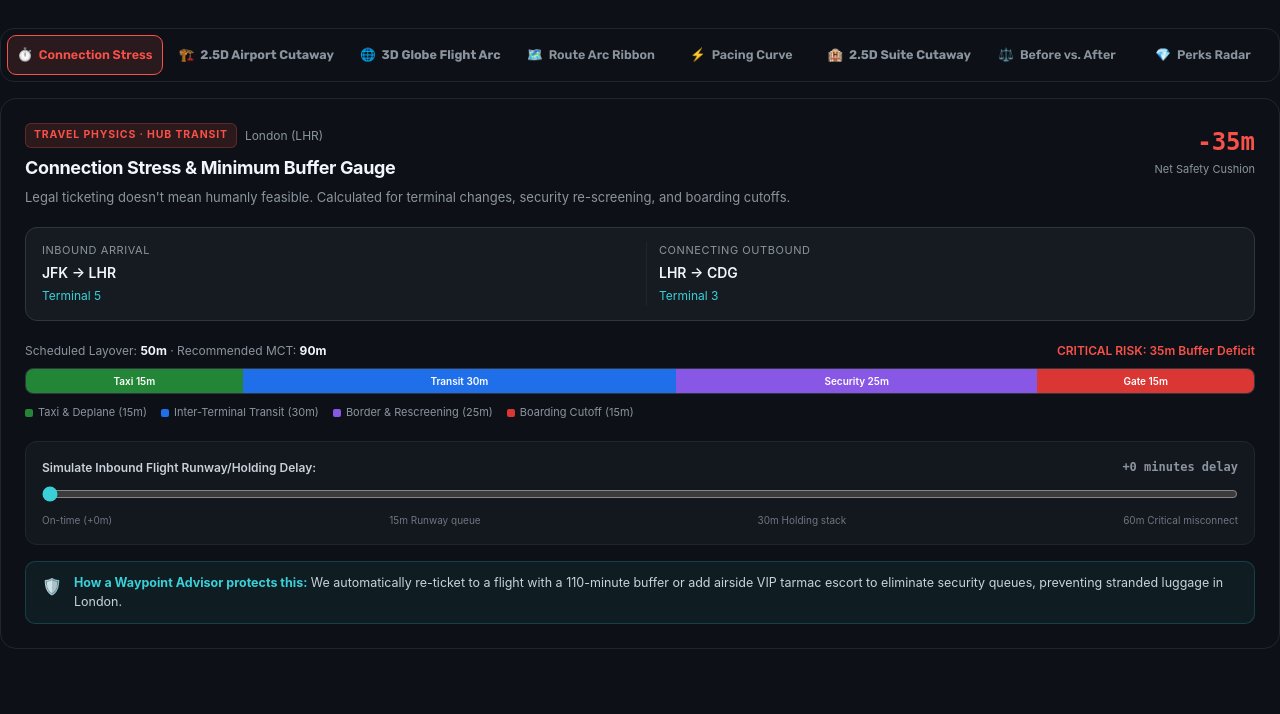
Test: Spatial & Visual Aha Moments Suite › renders WedgeVisualShowcase with seamless tab navigation across 2.5D, 3D, and planar views
Expected: the heading "Connection Stress & Minimum Buffer Gauge" is shown, [25, 157, 395, 178]
// 5D Airport Cutaway tab
Click the button "🏗️ 2.5D Airport Cutaway".
click(256, 55)  # box [169, 35, 344, 75]
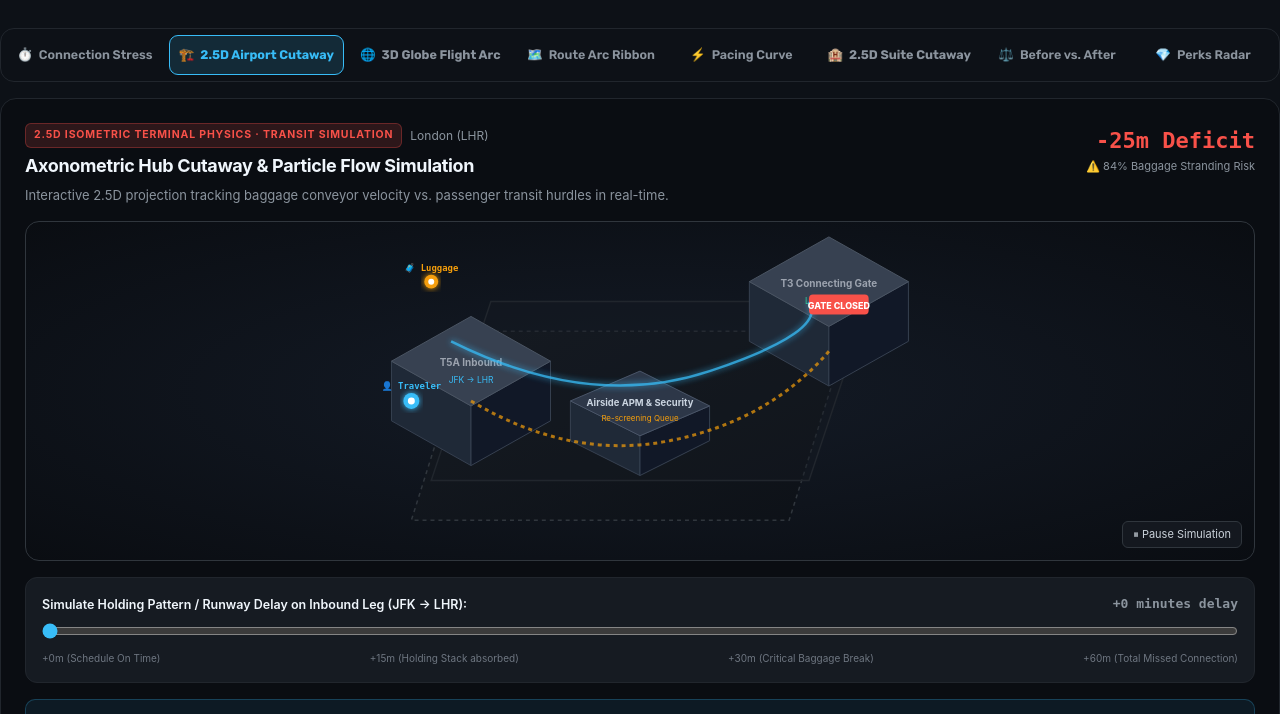
Expected: the heading "Axonometric Hub Cutaway & Particle Flow Simulation" is shown, [25, 155, 474, 176]
// 3D Globe Flight Arc tab
Click the button "🌐 3D Globe Flight Arc".
click(430, 55)  # box [350, 35, 511, 75]
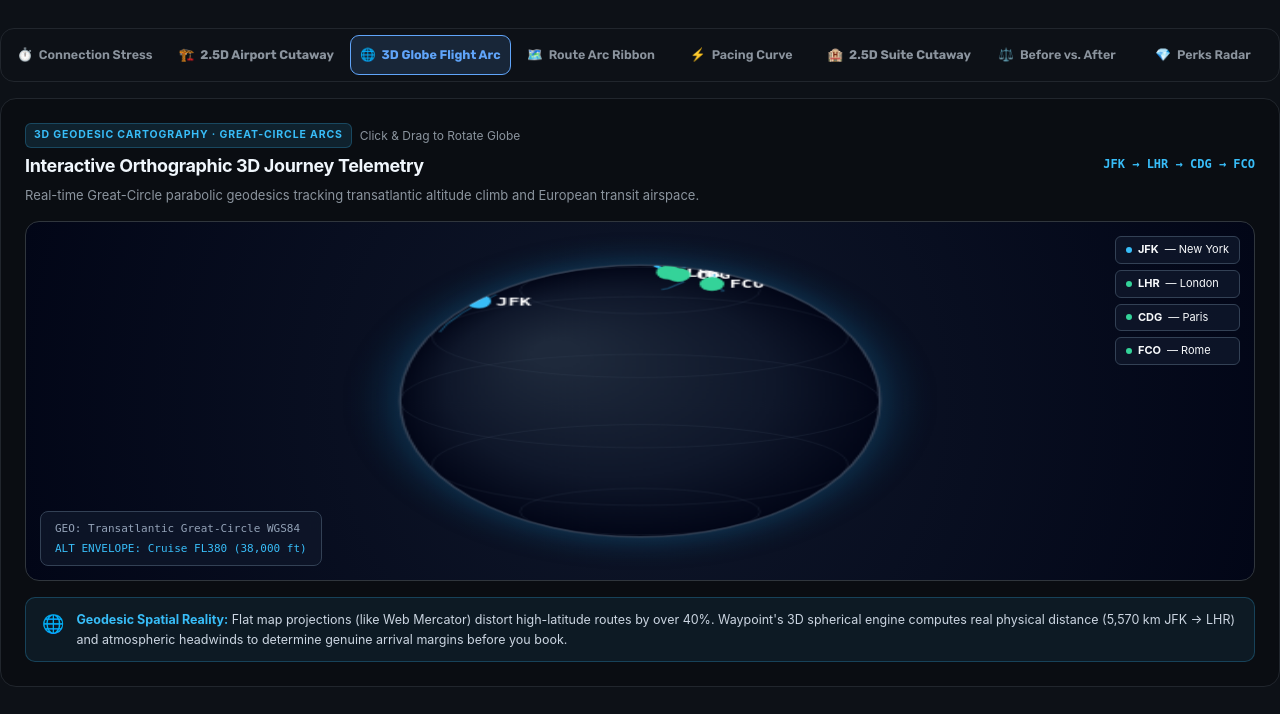
Expected: the heading "Interactive Orthographic 3D Journey Telemetry" is shown, [25, 155, 424, 176]
// 5D Suite Cutaway tab
Click the button "🏨 2.5D Suite Cutaway".
click(899, 55)  # box [817, 35, 981, 75]
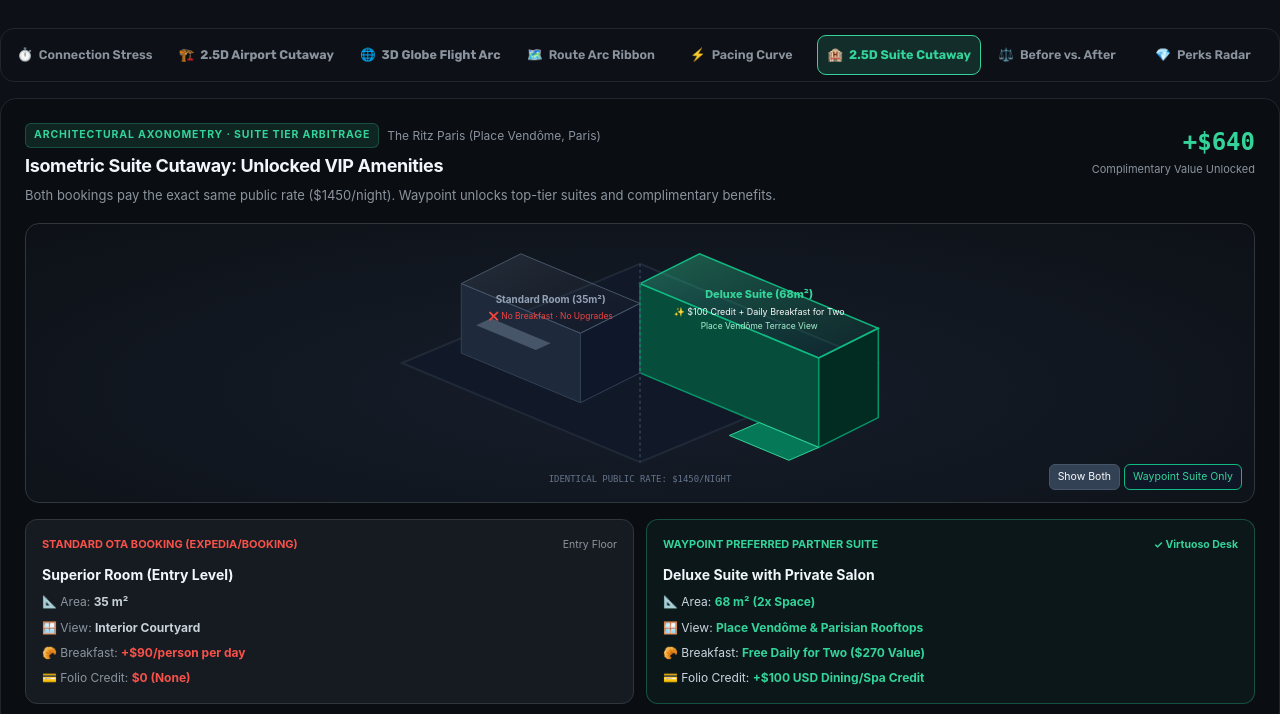
Expected: the heading "Isometric Suite Cutaway: Unlocked VIP Amenities" is shown, [25, 155, 443, 176]
